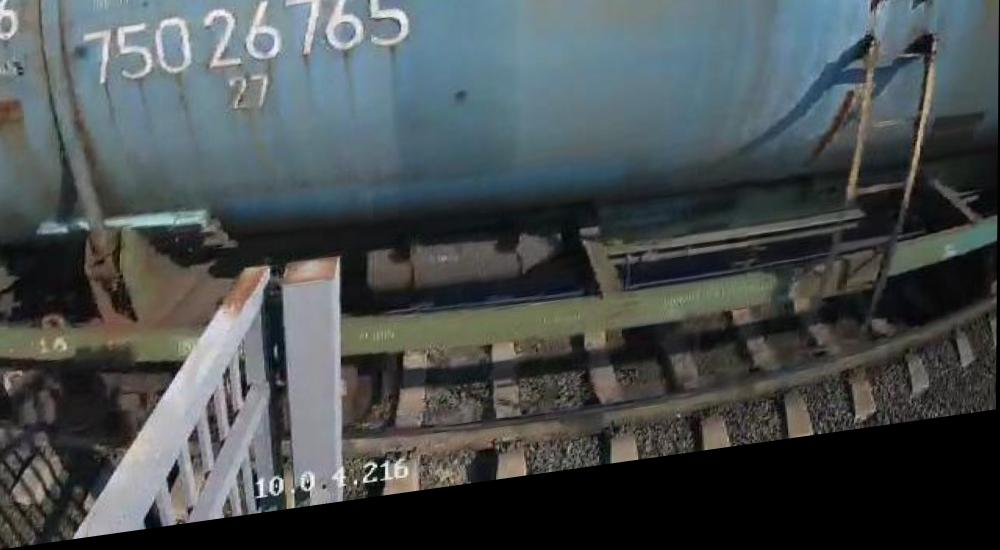Wagon-number: (76, 0, 416, 98)
